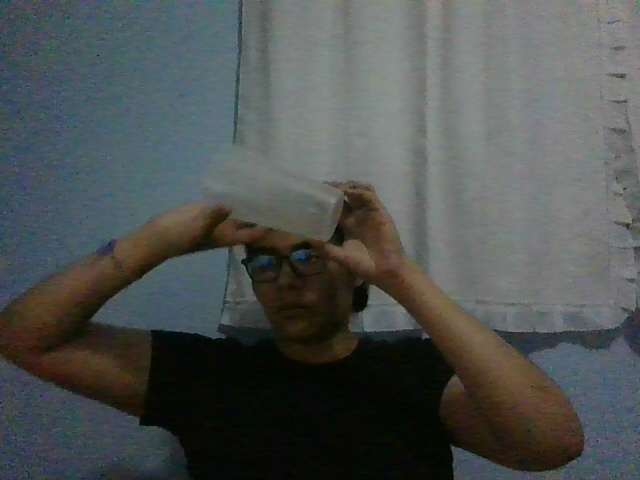vaso: (201, 144, 344, 242)
